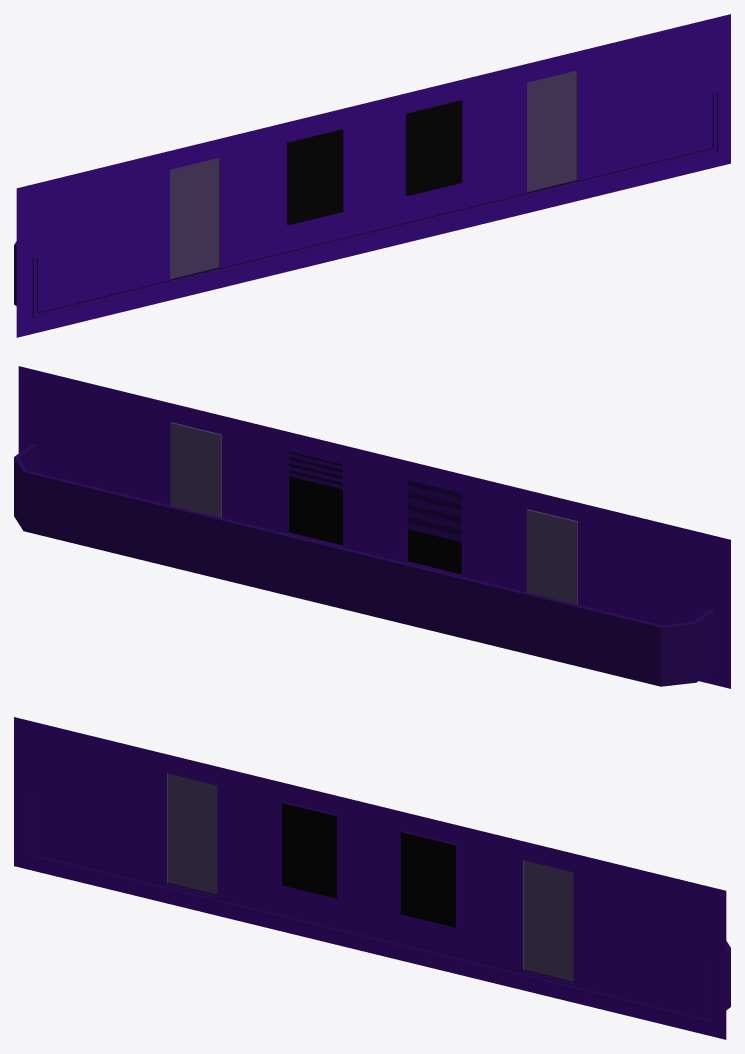
File: DecorativePart1.fbx
3 renders of one model, top to bottom at view 1: azimuth 30°, elevation 25°; view 2: azimuth 150°, elevation 25°; view 3: azimuth 330°, elevation 25°, orthographic.
Parts seen in each view (by area): view 1: Plane.003; view 2: Plane.003; view 3: Plane.003.
Boxes of the visible parts, box(x1,y1,x2,y2) form: Plane.003: box(14, 14, 730, 337); Plane.003: box(14, 366, 730, 688); Plane.003: box(14, 717, 730, 1039).
Size of the model in its own units: 10000 by 2000 by 799.
